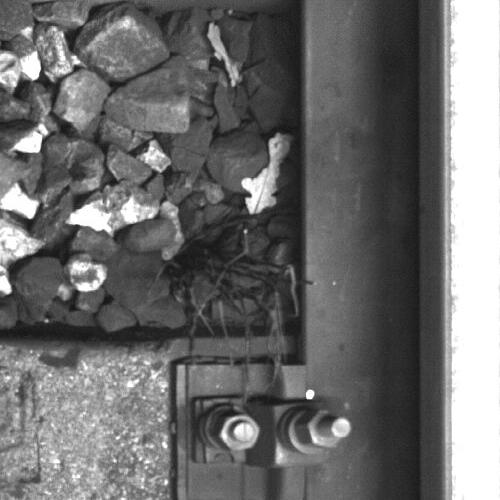kb: (186, 365, 352, 500)
nut: (297, 407, 355, 449), (213, 411, 262, 455)
rail: (443, 1, 500, 500)
tie_concr: (1, 344, 301, 500)
